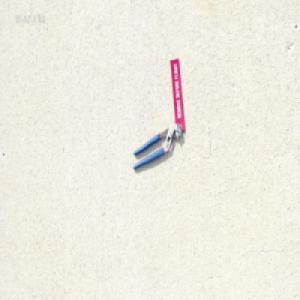Label: (168, 56, 184, 131)
Pliers: (131, 122, 181, 170)
